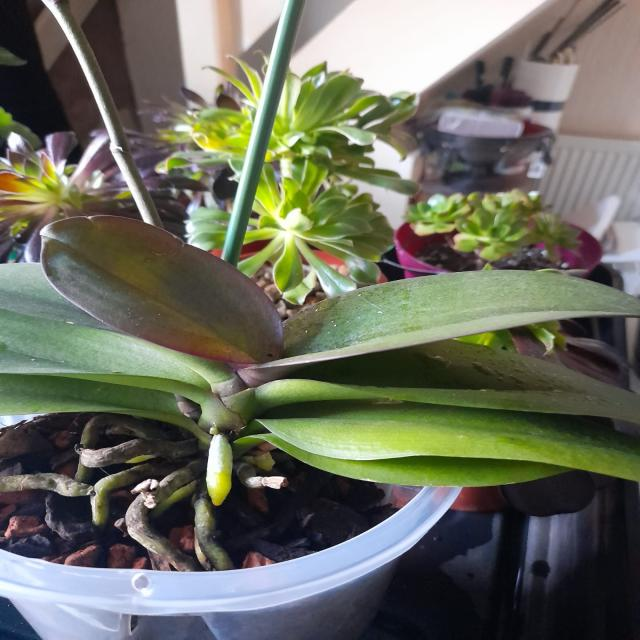leaf: (258, 362, 639, 484), (288, 269, 638, 357), (55, 217, 268, 361), (260, 400, 639, 470), (1, 307, 206, 387), (1, 371, 200, 423)
root: (125, 494, 200, 571), (91, 460, 174, 525), (78, 439, 198, 468), (80, 413, 171, 449), (194, 493, 233, 570), (150, 460, 205, 508), (0, 473, 93, 496), (236, 462, 287, 489)
stem: (193, 375, 256, 451), (208, 434, 233, 503)
